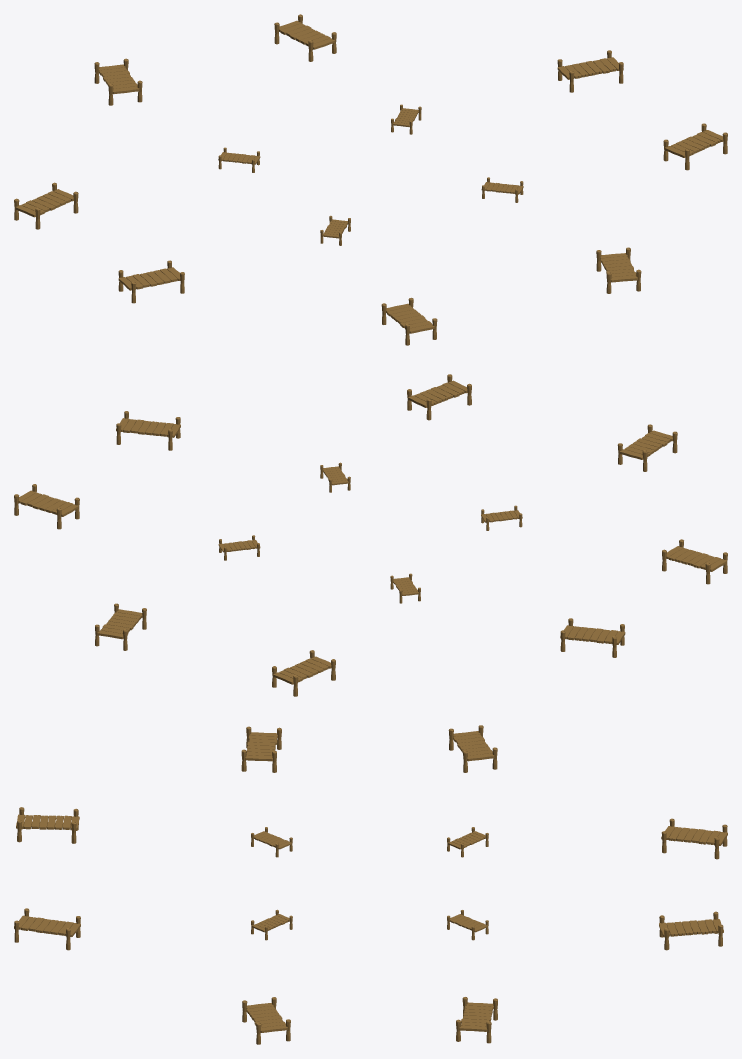
The model's file is brige-s2.fbx.
3 views of the same model, one above another, from view 1: azimuth 30°, elevation 25°; view 2: azimuth 150°, elevation 25°; view 3: azimuth 270°, elevation 25° (orthographic). The views are drawn at different scales.
Parts seen in each view (by area): view 1: Cube.058, Cube.060, Cube.065, Cube.064, Cube.062, Cube.063, Cube.061, Cube.059; view 2: Cube.063, Cube.059, Cube.061, Cube.064, Cube.062, Cube.065, Cube.060, Cube.058; view 3: Cube.060, Cube.062, Cube.058, Cube.059, Cube.064, Cube.063, Cube.065, Cube.061.
Boxes of the visible parts, left/top/right/bottom form: Cube.058: left=663, top=123, right=727, bottom=170; Cube.060: left=14, top=182, right=78, bottom=229; Cube.065: left=274, top=14, right=336, bottom=61; Cube.064: left=94, top=58, right=142, bottom=105; Cube.062: left=118, top=260, right=184, bottom=303; Cube.063: left=596, top=247, right=641, bottom=293; Cube.061: left=381, top=297, right=437, bottom=345; Cube.059: left=557, top=50, right=623, bottom=92; Cube.063: left=407, top=374, right=471, bottom=420; Cube.059: left=14, top=484, right=79, bottom=529; Cube.061: left=617, top=424, right=677, bottom=471; Cube.064: left=272, top=650, right=335, bottom=696; Cube.062: left=662, top=539, right=727, bottom=584; Cube.065: left=95, top=603, right=146, bottom=650; Cube.060: left=560, top=618, right=625, bottom=657; Cube.058: left=116, top=411, right=180, bottom=450; Cube.060: left=448, top=725, right=497, bottom=772; Cube.062: left=241, top=726, right=281, bottom=772; Cube.058: left=242, top=997, right=290, bottom=1044; Cube.059: left=456, top=997, right=497, bottom=1043; Cube.064: left=661, top=818, right=727, bottom=859; Cube.063: left=14, top=908, right=80, bottom=950; Cube.065: left=659, top=911, right=723, bottom=950; Cube.061: left=16, top=807, right=79, bottom=843.
Size of the model in its own units: 193 by 6.1 by 194.
